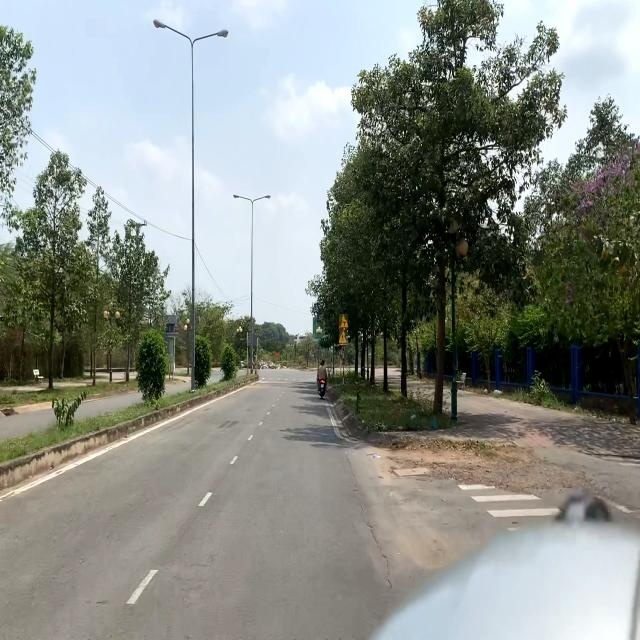bien_nguy_hiem: (339, 314, 348, 330), (339, 330, 348, 345)
